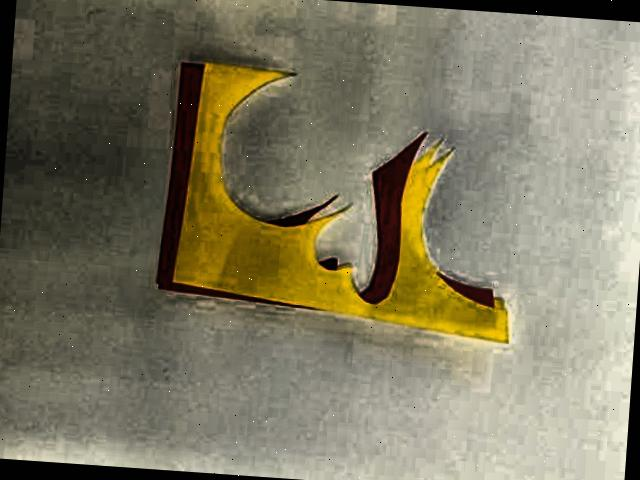Paper: (126, 54, 562, 360)
